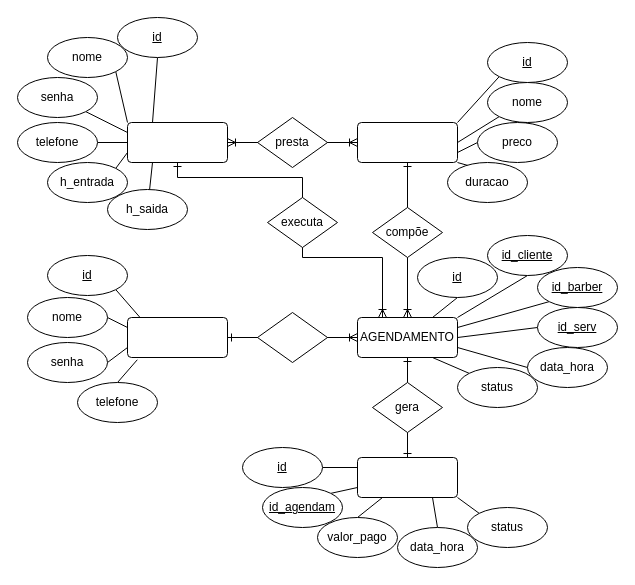
Image size: 635x585. Some labels were removed from this diagram. Here are the shapes that lost their labels. From the top down, the centre of each, then its label:
the point at 177,142: BARBEIRO
the point at 407,142: SERVICO
the point at 177,337: CLIENTE
the point at 292,337: realiza
the point at 407,477: PAGAMENTO
